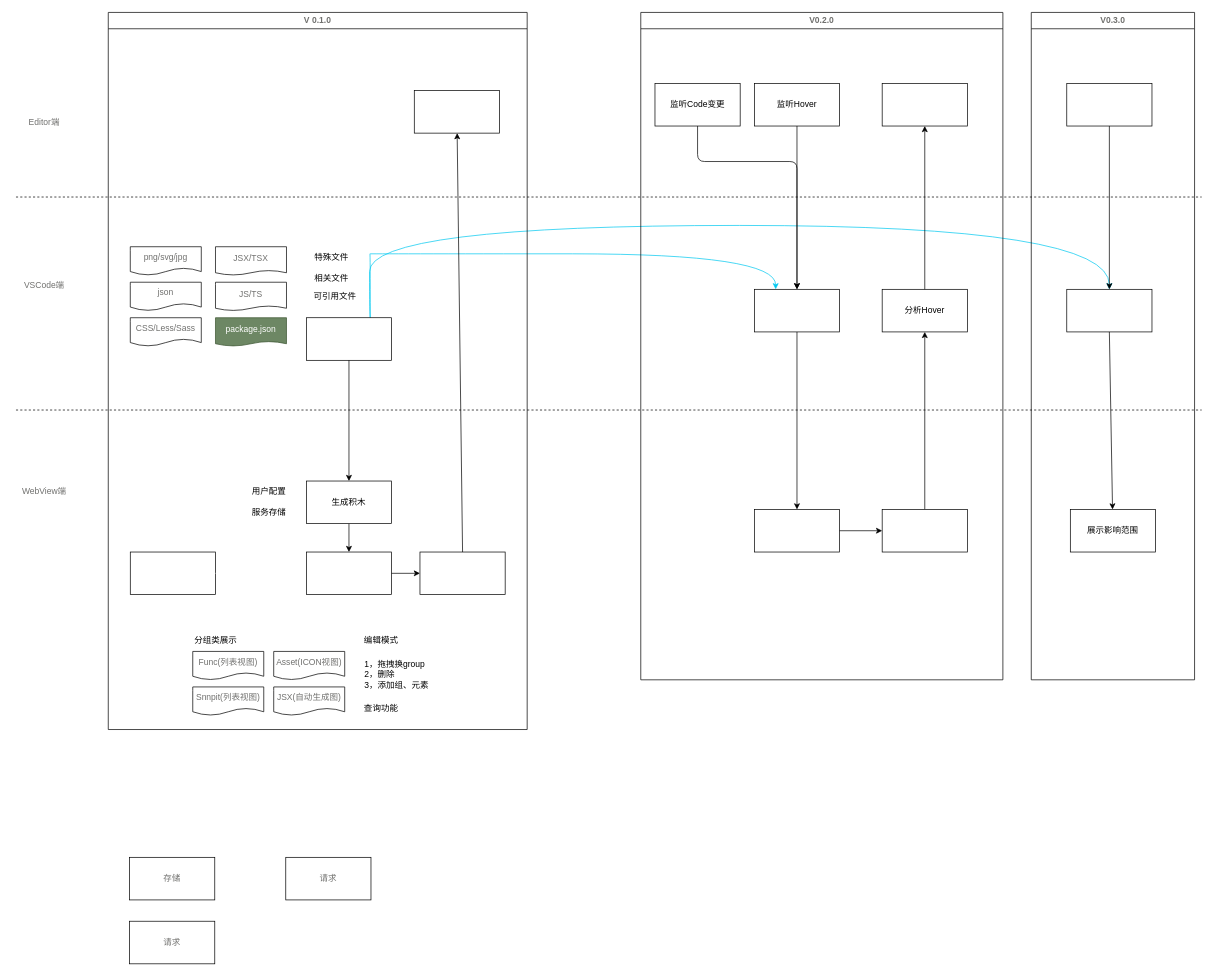
The diagram is 1215 pixels wide and 976 high, and some of its shapes have lost their labels. Here are the shapes that lost their labels. From the top down, the centre of each, then its label:
At (456,111): "生成代码".
At (924,104): "变更代码".
At (1109,104): "ActiveText变更".
At (797,310): "分析Hover和Code".
At (1109,310): "血缘关系分析".
At (349,338): "遍历文件".
At (797,530): "展示组件".
At (924,530): "编辑组件".
At (172,573): "编辑积木".
At (349,573): "渲染积木列表".
At (462,573): "拖拽积木".
